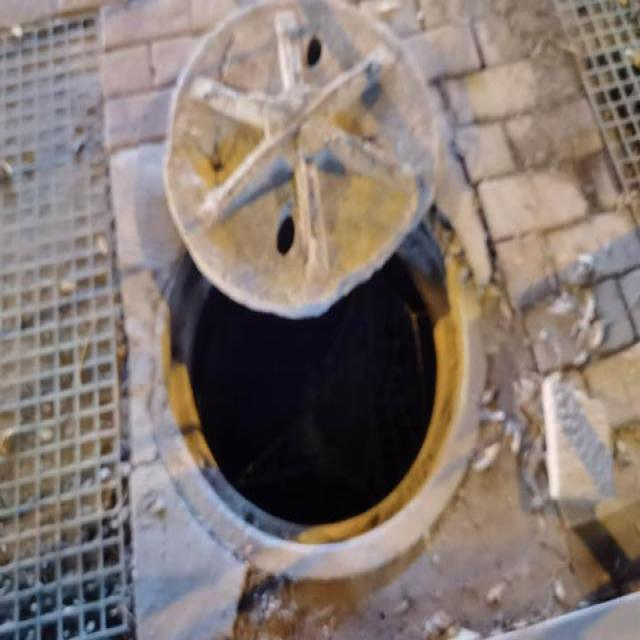manhole-cover: (162, 198, 474, 559)
